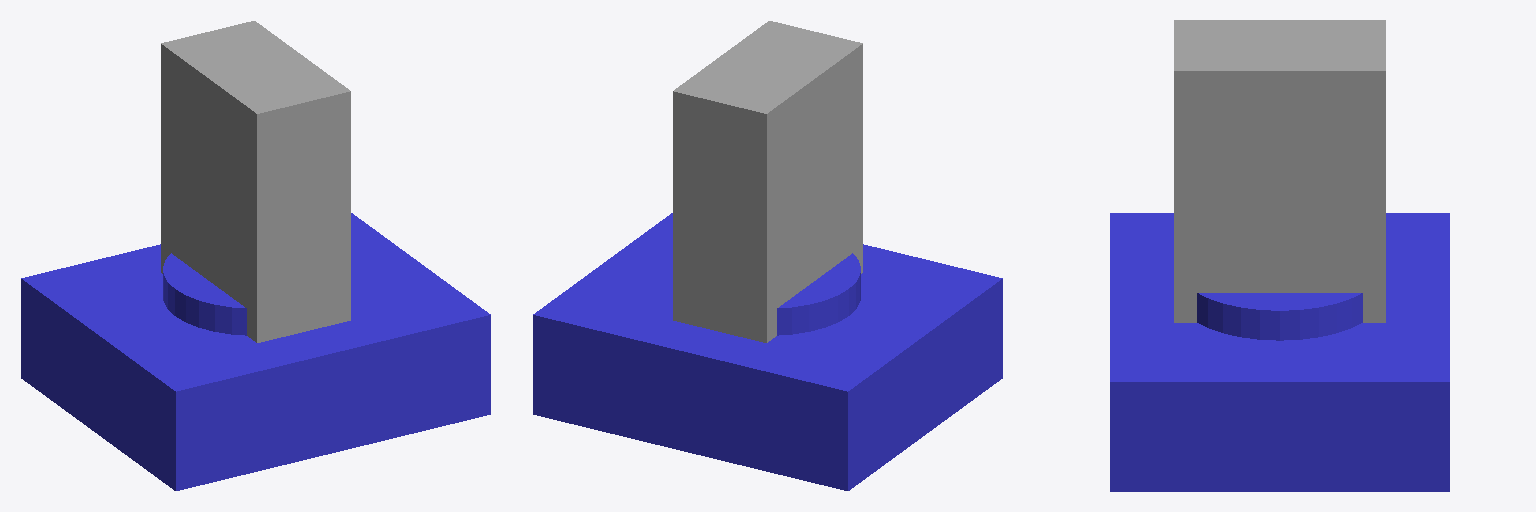
robot.urdf — evolved_robot:
<?xml version="1.0"?>
<robot name="evolved_robot">
  <material name="metal">
    <color rgba="0.7 0.7 0.7 1.0"/>
  </material>
  <material name="plastic">
    <color rgba="0.3 0.3 0.9 1.0"/>
  </material>
  <material name="rubber">
    <color rgba="0.1 0.1 0.1 1.0"/>
  </material>
  <material name="red">
    <color rgba="1.0 0.0 0.0 1.0"/>
  </material>
  <material name="wheel_material">
    <color rgba="0.2 0.2 0.2 1.0"/>
  </material>
  <link name="base_link">
    <visual>
      <geometry><box size="0.31007424185339777 0.2637592270063851 0.09384700153046605"/></geometry>
      <material name="plastic"/>
    </visual>
    <collision>
      <geometry><box size="0.31007424185339777 0.2637592270063851 0.09384700153046605"/></geometry>
    </collision>
    <inertial>
      <mass value="5.0"/>
      <inertia ixx="0.06531349127272092" ixy="0" ixz="0" 
               iyy="0.08746107929768226" iyz="0" 
               izz="0.13809580440997102"/>
    </inertial>
  </link>
  <link name="link1">
    <visual>
      <geometry>
        <cylinder radius="0.03486520265155107" length="0.07009535717521732"/>
      </geometry>
      <material name="wheel_material"/>
    </visual>
    <collision>
      <geometry>
        <cylinder radius="0.03486520265155107" length="0.07009535717521732"/>
      </geometry>
    </collision>
    <inertial>
      <mass value="1.0"/>
      <inertia ixx="0.0007133421804435384" ixy="0" ixz="0" 
               iyy="0.0007133421804435384" iyz="0" 
               izz="0.0006077911779668618"/>
    </inertial>
  </link>
  <joint name="joint1" type="fixed">
    <parent link="base_link"/>
    <child link="link1"/>
    <origin xyz="0 0 0" rpy="1.5708 0 0"/>
    <axis xyz="0 0 1"/>
    <dynamics damping="0.8605186917281632" friction="0.1"/>
  </joint>
  <link name="link2">
    <visual>
      <geometry><cylinder radius="0.07940316327069605" length="0.05104070290595315"/></geometry>
      <material name="plastic"/>
    </visual>
    <collision>
      <geometry><cylinder radius="0.07940316327069605" length="0.05104070290595315"/></geometry>
    </collision>
    <inertial>
      <mass value="0.5"/>
      <inertia ixx="0.0017933116971093515" ixy="0" ixz="0" 
               iyy="0.0017933116971093515" iyz="0" 
               izz="0.003152431168696407"/>
    </inertial>
  </link>
  <joint name="joint2" type="fixed">
    <parent link="base_link"/>
    <child link="link2"/>
    <origin xyz="0 0 0.04692350076523302" rpy="0 0 0"/>
    <axis xyz="0.18604024470602387 -0.9368951270360836 0.2960009261569358"/>
    <dynamics damping="0.32429681390972" friction="0.1"/>
  </joint>
  <link name="link3">
    <visual>
      <geometry><cylinder radius="0.03788598198868927" length="0.06036328961391901"/></geometry>
      <material name="plastic"/>
    </visual>
    <collision>
      <geometry><cylinder radius="0.03788598198868927" length="0.06036328961391901"/></geometry>
    </collision>
    <inertial>
      <mass value="0.5"/>
      <inertia ixx="0.0006624808022296438" ixy="0" ixz="0" 
               iyy="0.0006624808022296438" iyz="0" 
               izz="0.0007176738156236439"/>
    </inertial>
  </link>
  <joint name="joint3" type="revolute">
    <parent link="base_link"/>
    <child link="link3"/>
    <origin xyz="0 0 0.09692350076523303" rpy="0 0 0"/>
    <axis xyz="0.9818633592503528 -0.14382473688380953 -0.12352647012651045"/>
    <dynamics damping="0.6617432306237528" friction="0.1"/>
    <limit lower="-2.230233953395558" upper="0.9605639705156569" effort="100" velocity="100"/>
  </joint>
  <link name="link4">
    <visual>
      <geometry><box size="0.09246010463648308 0.1646332722257985 0.23097902591593228"/></geometry>
      <material name="metal"/>
    </visual>
    <collision>
      <geometry><box size="0.09246010463648308 0.1646332722257985 0.23097902591593228"/></geometry>
    </collision>
    <inertial>
      <mass value="0.5"/>
      <inertia ixx="0.0067046187280705655" ixy="0" ixz="0" 
               iyy="0.00515834844687186" iyz="0" 
               izz="0.002971082106096939"/>
    </inertial>
  </link>
  <joint name="joint4" type="revolute">
    <parent link="base_link"/>
    <child link="link4"/>
    <origin xyz="0 0 0.14692350076523303" rpy="0 0 0"/>
    <axis xyz="0.7122312604972002 0.31913159411021674 -0.6252052920531312"/>
    <dynamics damping="0.7941454157241027" friction="0.1"/>
    <limit lower="-1.577408963519323" upper="2.0410000000000004" effort="100" velocity="100"/>
  </joint>
</robot>

--- What the picture shows (computed from the rendered views, not written in the file) ---
The picture shows the robot from 3 angles, left to right: view 1: azimuth 30°, elevation 25°; view 2: azimuth 150°, elevation 25°; view 3: azimuth 270°, elevation 25°; orthographic projection.
Model evolved_robot with 5 links and 4 joints (2 revolute, 2 fixed), rooted at base_link, posed all joints at 0.
Links seen in each view (by area): view 1: base_link, link4, link2; view 2: base_link, link4, link2; view 3: base_link, link4, link2.
Boxes of the visible links, x1,y1,x2,y2 form: base_link: [21, 213, 490, 490]; link4: [161, 21, 350, 342]; link2: [163, 253, 246, 335]; base_link: [533, 213, 1002, 490]; link4: [673, 21, 862, 342]; link2: [777, 253, 860, 335]; base_link: [1110, 213, 1449, 491]; link4: [1174, 20, 1385, 322]; link2: [1197, 293, 1362, 340].
Bounding box of the posed robot: 0.3101 × 0.2638 × 0.3093 m (x, y, z).
Geometry: primitives only (box / cylinder / sphere), no mesh files.